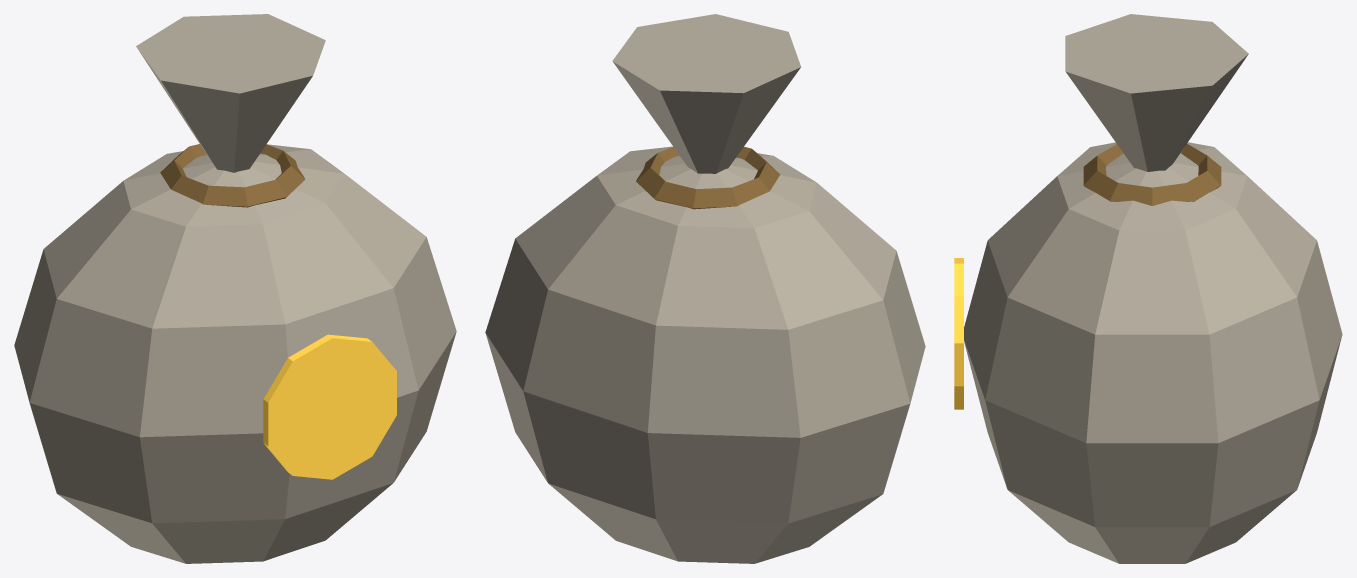
The model's file is money_bag.glb.
The picture shows the model from 3 angles, left to right: view 1: azimuth 30°, elevation 25°; view 2: azimuth 150°, elevation 25°; view 3: azimuth 270°, elevation 25°; orthographic projection.
Parts seen in each view (by area): view 1: bag_bag_cloth, bag_bag_coin, bag_bag_rope; view 2: bag_bag_cloth, bag_bag_rope; view 3: bag_bag_cloth, bag_bag_rope, bag_bag_coin.
Boxes of the visible parts, x1,y1,x2,y2 form: bag_bag_cloth: (14, 14, 456, 563); bag_bag_coin: (263, 334, 396, 479); bag_bag_rope: (160, 144, 305, 207); bag_bag_cloth: (485, 14, 925, 563); bag_bag_rope: (636, 146, 780, 209); bag_bag_cloth: (964, 14, 1342, 563); bag_bag_rope: (1083, 144, 1221, 205); bag_bag_coin: (954, 258, 963, 409).
Size of the model in its own units: 0.4655 by 0.56 by 0.402.
